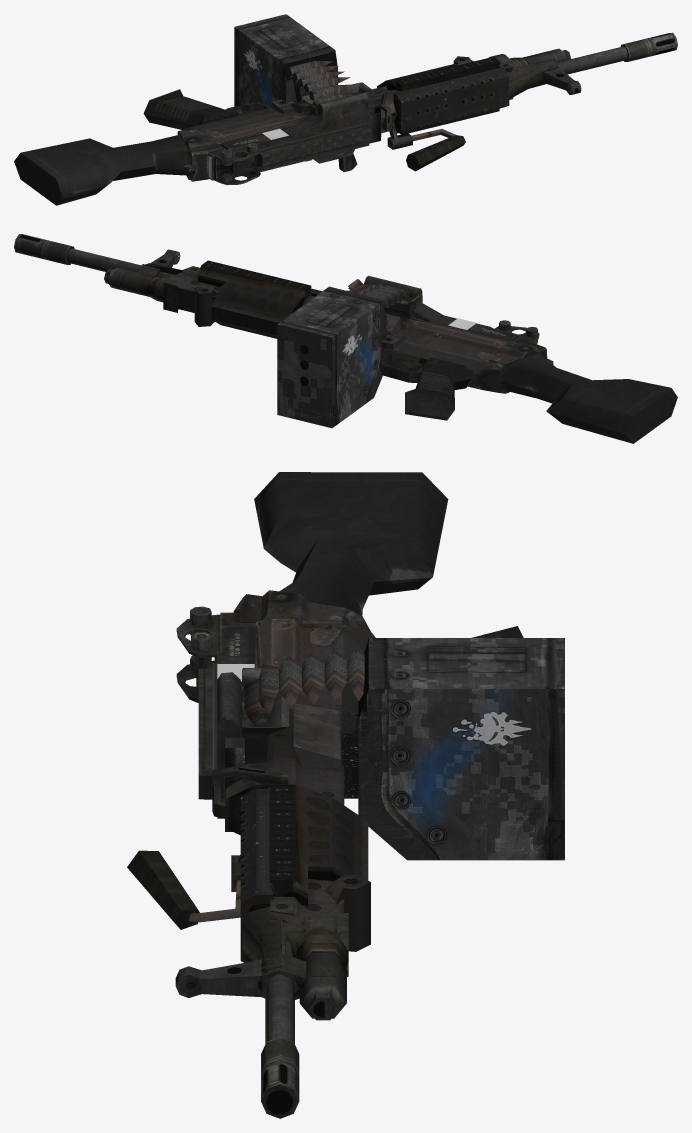
Rendered from t6_wpn_lmg_mk48_world_LOD0.obj.
The picture shows the model from 3 angles, top to bottom: view 1: azimuth 30°, elevation 25°; view 2: azimuth 150°, elevation 25°; view 3: azimuth 270°, elevation 25°; orthographic projection. The views are drawn at different scales.
Visible parts, largest first — view 1: mtl_t6_wpn_lmg_mk48_camo2, mtl_t6_wpn_lmg_mk48_camo1, mtl_t6_wpn_lmg_mk48_camo4, mtl_t6_wpn_lmg_mk48_camo2_detail, mtl_t6_wpn_lmg_mk48_ammo_camo1, mtl_t6_wpn_lmg_mk48_camo3, mtl_t6_wpn_lmg_mk48_ammo_camo2; view 2: mtl_t6_wpn_lmg_mk48_camo1, mtl_t6_wpn_lmg_mk48_ammo_camo1, mtl_t6_wpn_lmg_mk48_camo2_detail, mtl_t6_wpn_lmg_mk48_camo2, mtl_t6_wpn_lmg_mk48_camo4, mtl_t6_wpn_lmg_mk48_camo3, mtl_t6_wpn_lmg_mk48_ammo_camo2; view 3: mtl_t6_wpn_lmg_mk48_ammo_camo1, mtl_t6_wpn_lmg_mk48_camo1, mtl_t6_wpn_lmg_mk48_camo2_detail, mtl_t6_wpn_lmg_mk48_camo2, mtl_t6_wpn_lmg_mk48_camo4, mtl_t6_wpn_lmg_mk48_camo3, mtl_t6_wpn_lmg_mk48_ammo_camo2.
Boxes of the visible parts, x1,y1,x2,y2 form: mtl_t6_wpn_lmg_mk48_camo2: (143, 44, 629, 185); mtl_t6_wpn_lmg_mk48_camo1: (177, 46, 627, 181); mtl_t6_wpn_lmg_mk48_camo4: (178, 32, 677, 181); mtl_t6_wpn_lmg_mk48_camo2_detail: (14, 134, 190, 205); mtl_t6_wpn_lmg_mk48_ammo_camo1: (234, 14, 340, 107); mtl_t6_wpn_lmg_mk48_camo3: (221, 103, 465, 182); mtl_t6_wpn_lmg_mk48_ammo_camo2: (283, 50, 355, 106); mtl_t6_wpn_lmg_mk48_camo1: (66, 248, 552, 393); mtl_t6_wpn_lmg_mk48_ammo_camo1: (277, 284, 409, 428); mtl_t6_wpn_lmg_mk48_camo2_detail: (499, 353, 677, 443); mtl_t6_wpn_lmg_mk48_camo2: (65, 246, 539, 420); mtl_t6_wpn_lmg_mk48_camo4: (14, 234, 553, 392); mtl_t6_wpn_lmg_mk48_camo3: (413, 289, 537, 341); mtl_t6_wpn_lmg_mk48_ammo_camo2: (347, 284, 413, 307); mtl_t6_wpn_lmg_mk48_ammo_camo1: (244, 638, 564, 860); mtl_t6_wpn_lmg_mk48_camo1: (175, 594, 375, 1043); mtl_t6_wpn_lmg_mk48_camo2_detail: (254, 472, 448, 615); mtl_t6_wpn_lmg_mk48_camo2: (173, 606, 523, 1118); mtl_t6_wpn_lmg_mk48_camo4: (234, 590, 370, 1100); mtl_t6_wpn_lmg_mk48_camo3: (127, 610, 255, 920); mtl_t6_wpn_lmg_mk48_ammo_camo2: (244, 638, 368, 798).
Size of the model in its own units: 97.26 by 15.27 by 29.9.
